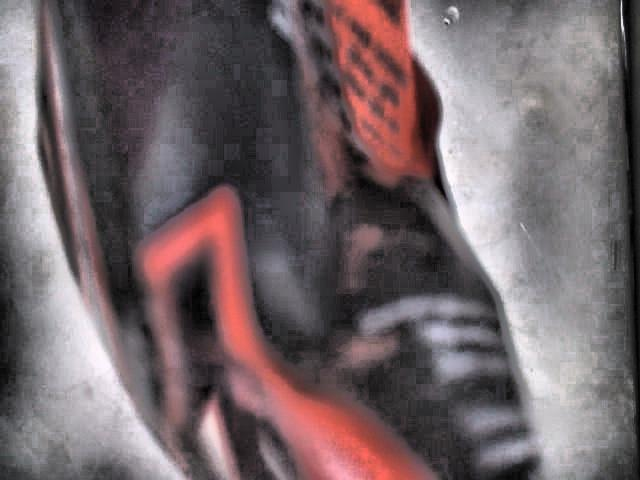Plastic: (36, 0, 547, 480)
